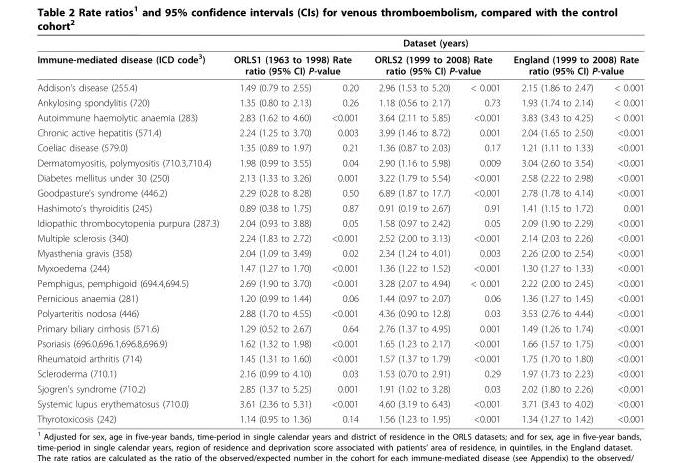table: (36, 36, 643, 424)
table column: (36, 36, 225, 424), (506, 36, 602, 424), (225, 36, 320, 424), (365, 36, 459, 424), (459, 36, 506, 424), (320, 36, 365, 424), (602, 36, 643, 424)
table column header: (36, 36, 643, 94)
table row: (36, 49, 643, 78), (36, 78, 643, 94), (36, 184, 643, 200), (36, 94, 643, 109), (36, 109, 643, 124), (36, 124, 643, 139), (36, 139, 643, 154), (36, 154, 643, 169), (36, 169, 643, 184), (36, 200, 643, 215), (36, 215, 643, 230), (36, 230, 643, 245), (36, 245, 643, 260), (36, 260, 643, 275), (36, 275, 643, 290), (36, 290, 643, 305), (36, 305, 643, 320), (36, 320, 643, 335), (36, 335, 643, 350), (36, 350, 643, 365), (36, 365, 643, 380), (36, 380, 643, 395), (36, 395, 643, 410), (36, 410, 643, 424), (36, 36, 643, 49)
table spanning cell: (36, 36, 225, 94), (225, 36, 643, 49), (365, 49, 506, 78), (225, 49, 365, 78), (506, 49, 643, 78)
